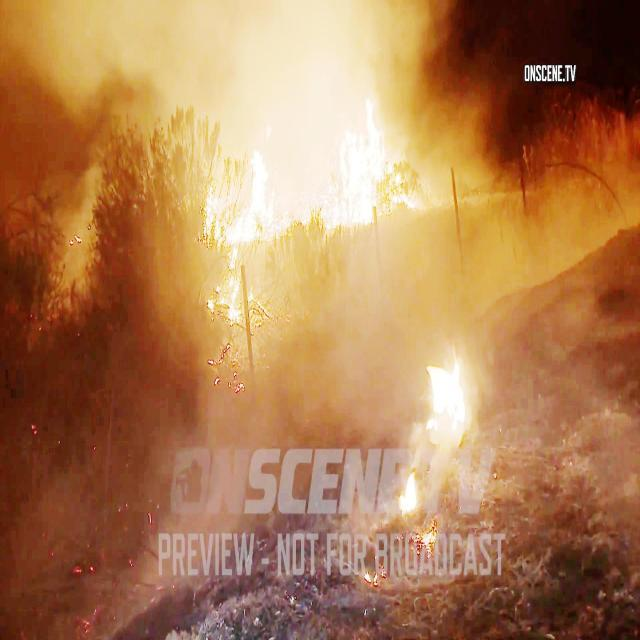Fire: (322, 93, 392, 230), (419, 335, 477, 454), (222, 138, 280, 253)
